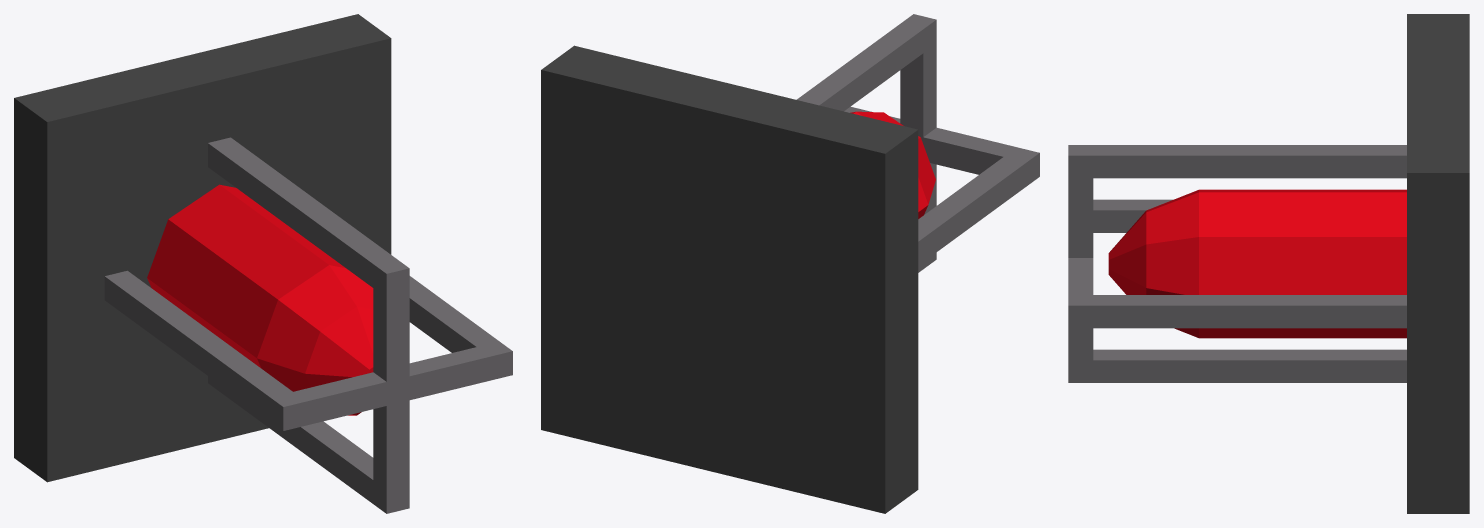
Rendered from scifi_light_2.fbx.
3 renders of one model, left to right at view 1: azimuth 30°, elevation 25°; view 2: azimuth 150°, elevation 25°; view 3: azimuth 270°, elevation 25°, orthographic. The views are drawn at different scales.
Visible parts, largest first — view 1: Cube.030; view 2: Cube.030; view 3: Cube.030.
Boxes of the visible parts, <box> form: Cube.030: <box>14,14,512,513</box>; Cube.030: <box>541,14,1039,513</box>; Cube.030: <box>1068,14,1469,513</box>.
Size of the model in its own units: 0.3 by 0.3 by 0.32.
